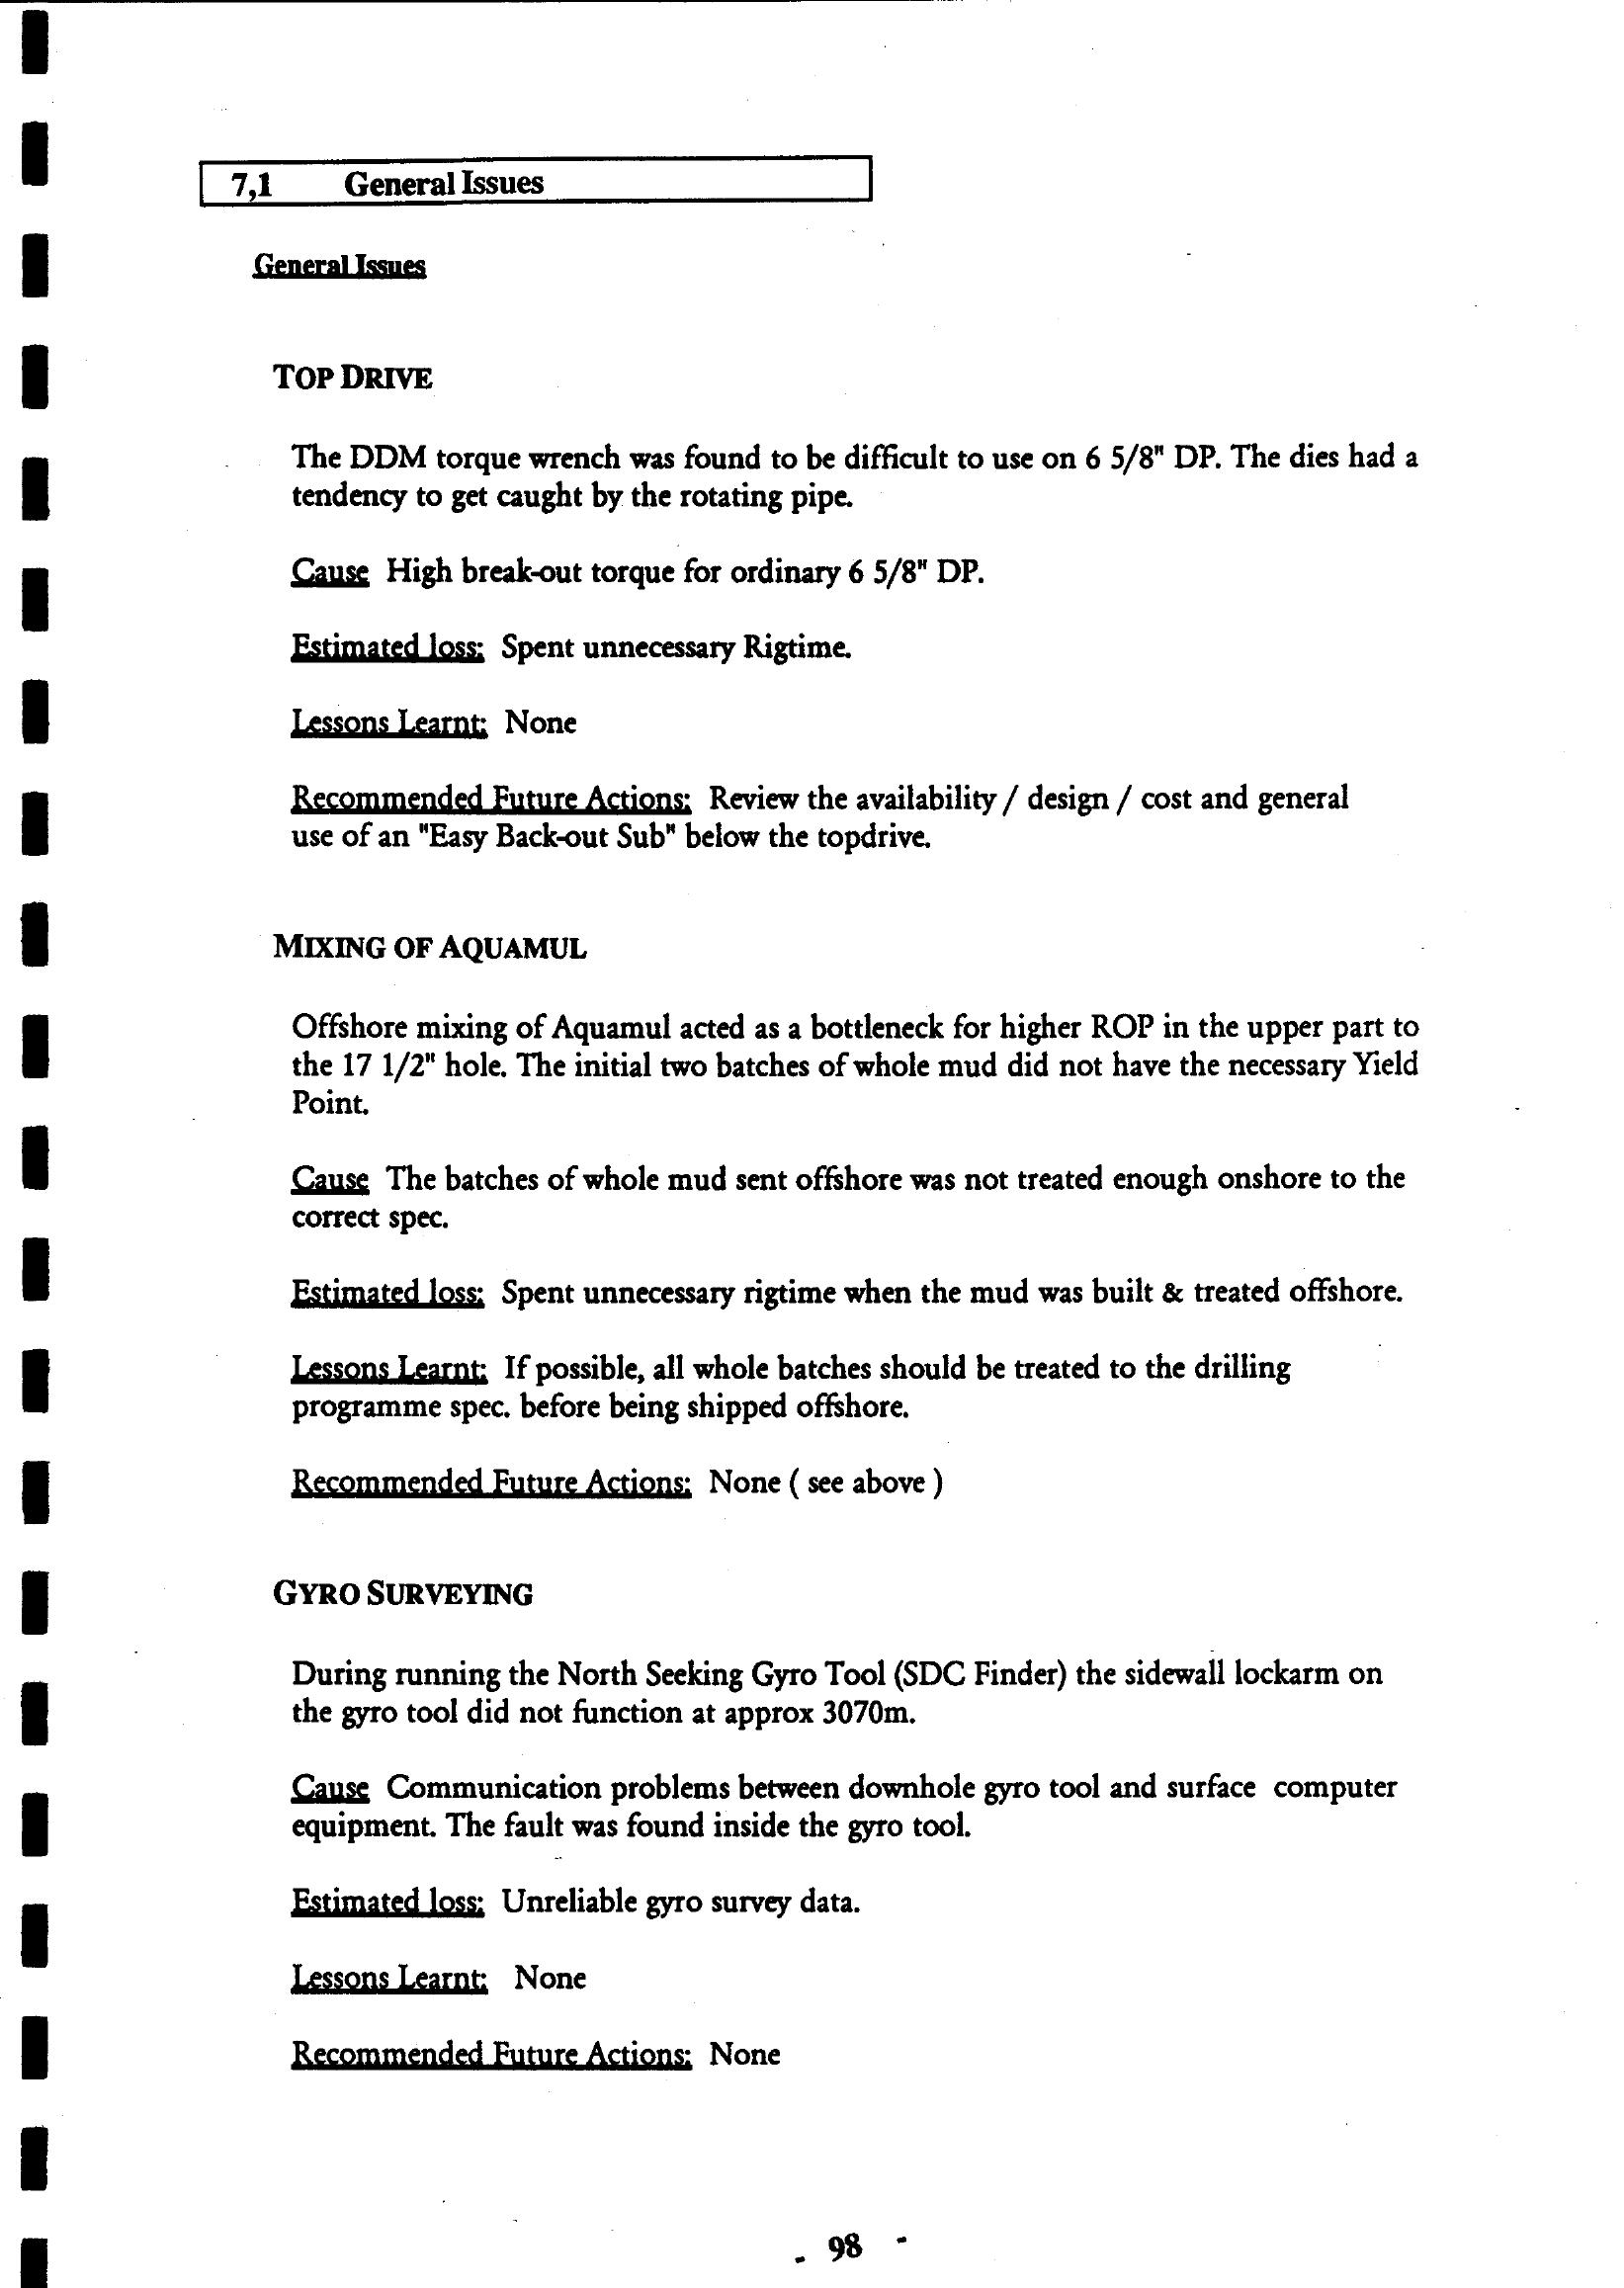text: (174, 135, 1469, 2144)
